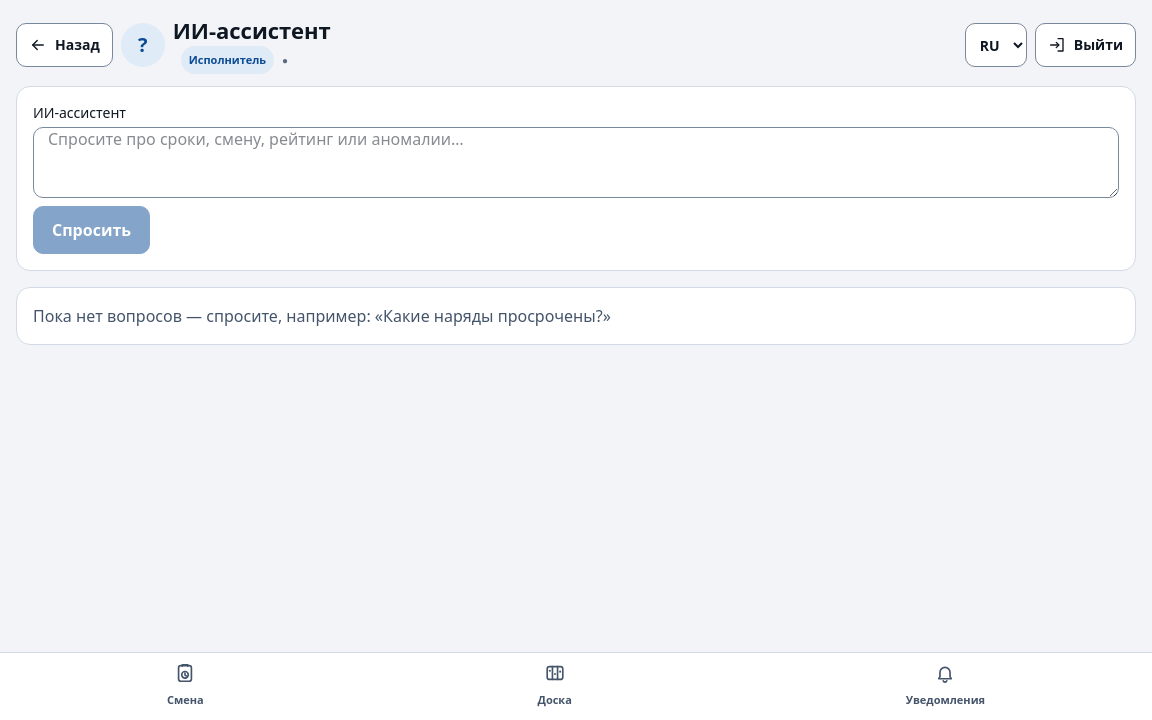
Test: AssistantPage › renders fallback answer without links
Type "бла бла" into the text box labelled "ИИ-ассистент" at (576, 162), box [33,127,1119,198]
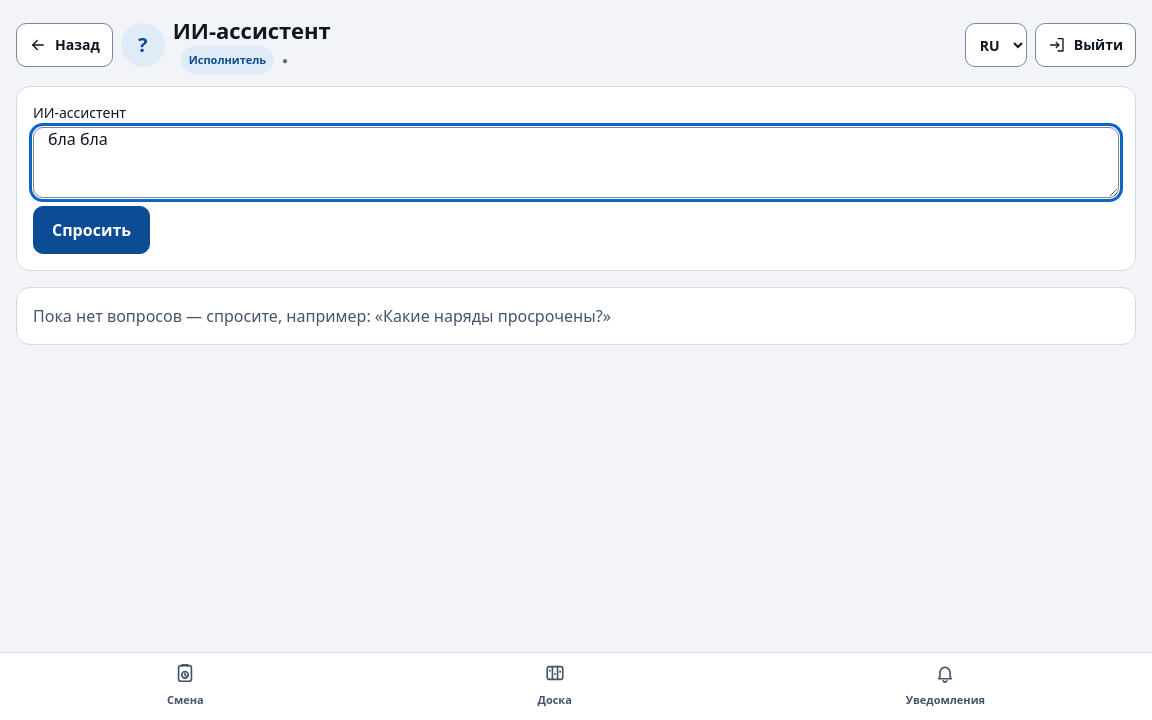
Click the button "Спросить" at (92, 230), box [33,206,150,254]
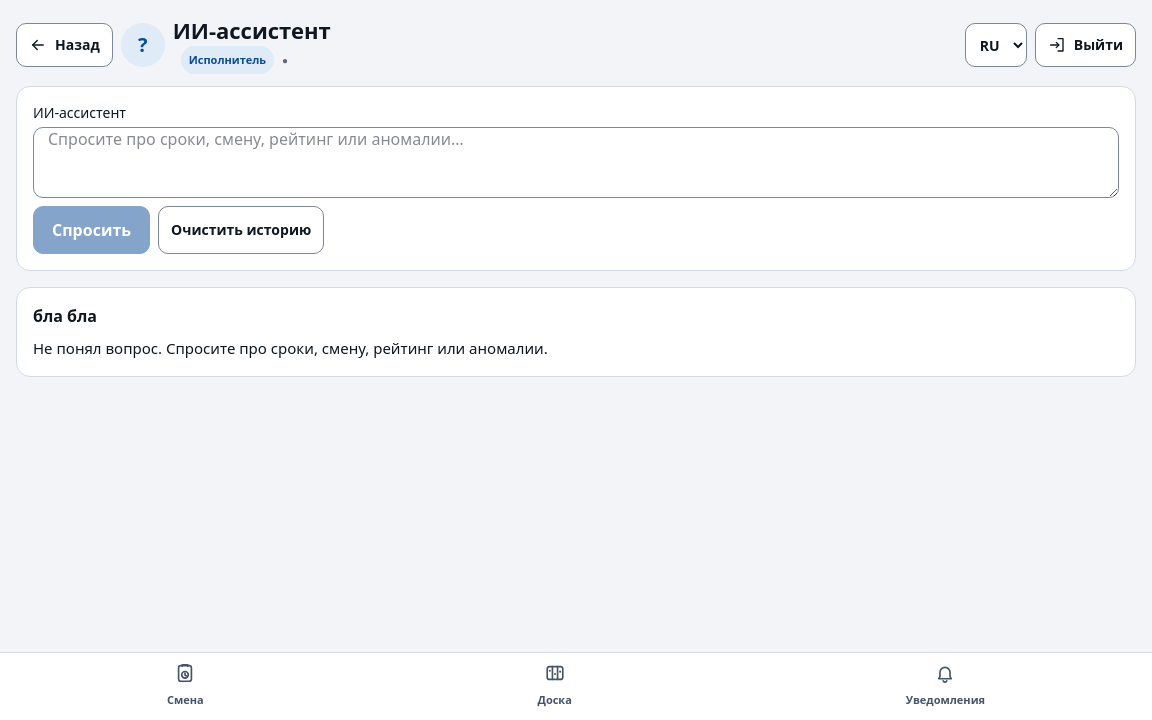
Check: the text "Не понял вопрос" is shown, box [33,338,548,358]
Check: the message "наряд" is gone
